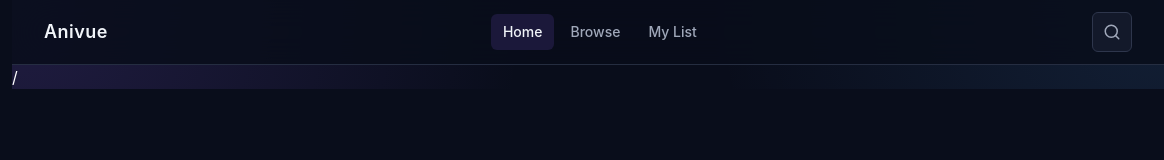
Test: Navbar search › navigates after debounced search input
The width and height of the screenshot is (1164, 160).
Click the button named "Open search". click: (1112, 32)
box: [1092,12,1132,52]
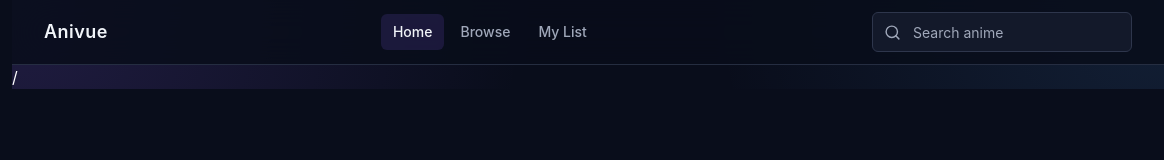
Type "naruto" into the field labelled "Search anime". click: (1002, 32)
box: [872,12,1132,52]
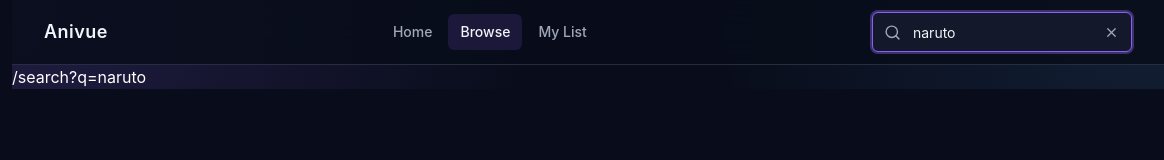
expect the text with test id "location" shows "/": met, box [12,67,146,87]
expect the text with test id "location" reads "/search?q=naruto": met, box [12,67,146,87]
